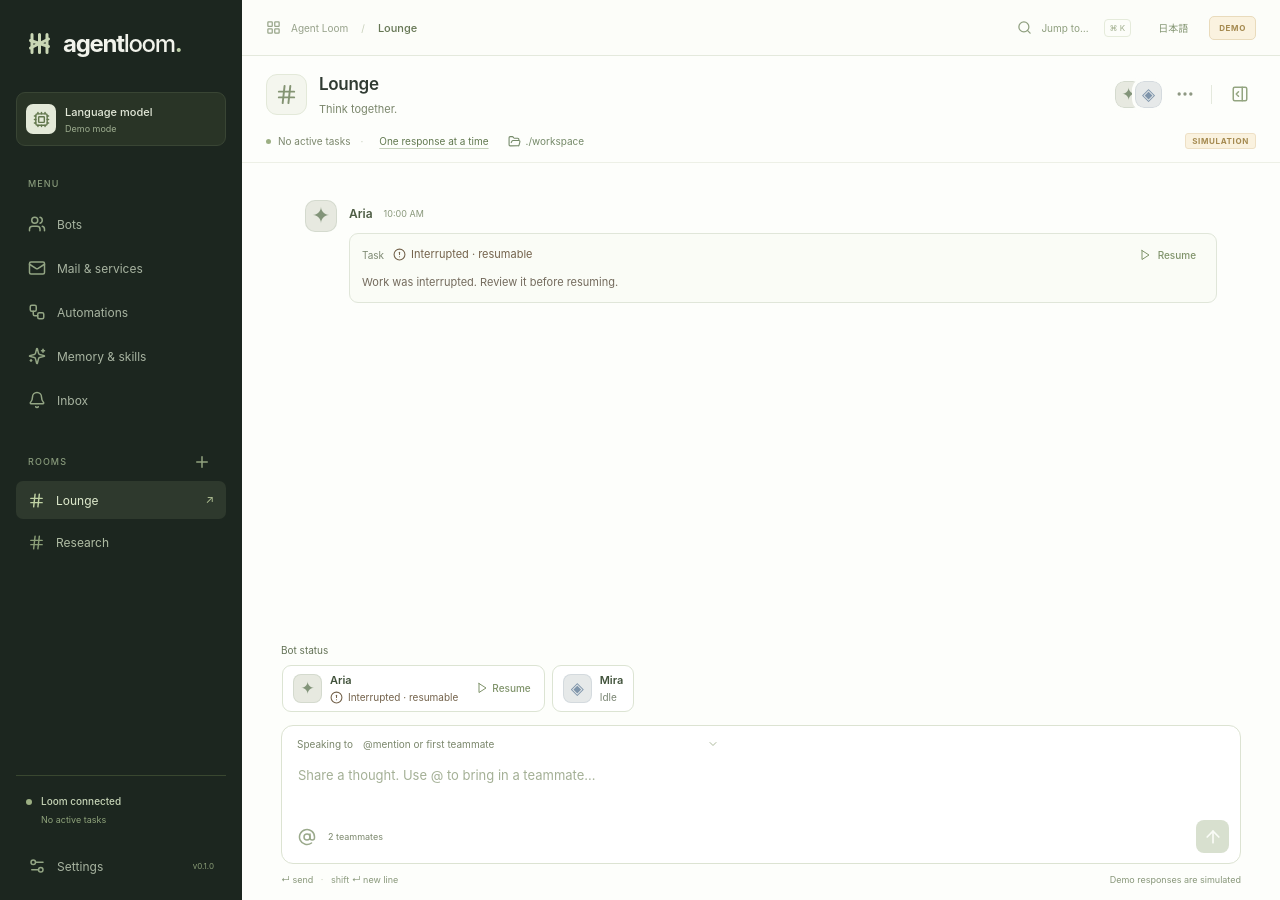
Scenario: interrupted work has an explicit resume action and queued work can be stopped
What coordinates should you click on to do the following:
click the 1st button "Resume"
I would click on:
 (1167, 254)
Its box is [1131,242,1204,267].
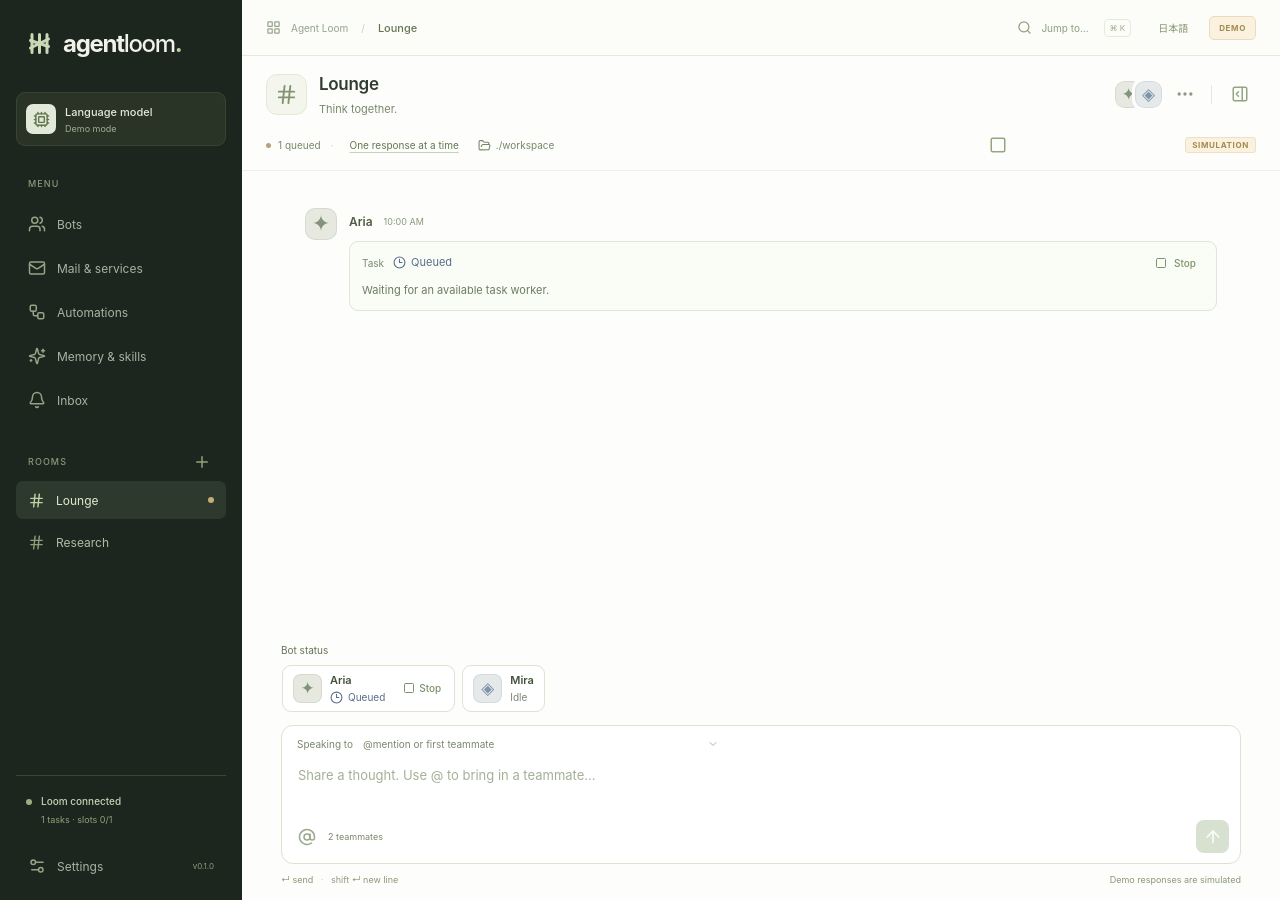
Result: the element with class "run-progress" shows "Queued" at [411,255,452,269]
Result: the button named "Stop work in this room" is shown
What coordinates should you click on to do the following:
click the button named "Stop work in this room"
I would click on:
 (998, 145)
Its box is [986,132,1012,158].
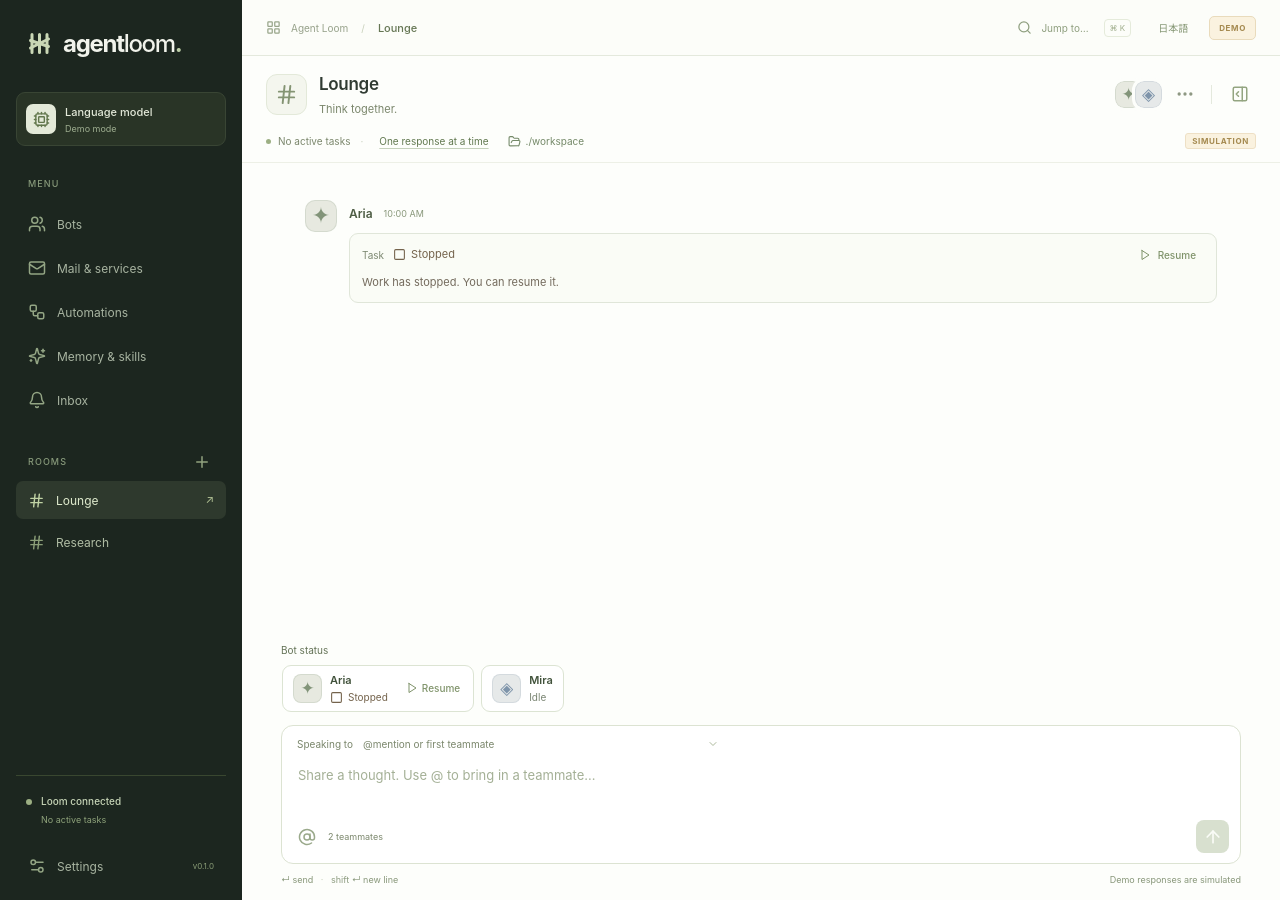
Expected: the 1st button "Resume" is shown, [1131,242,1204,267]
Result: the element with class "run-progress" shows "Stopped" at [411,247,455,261]
